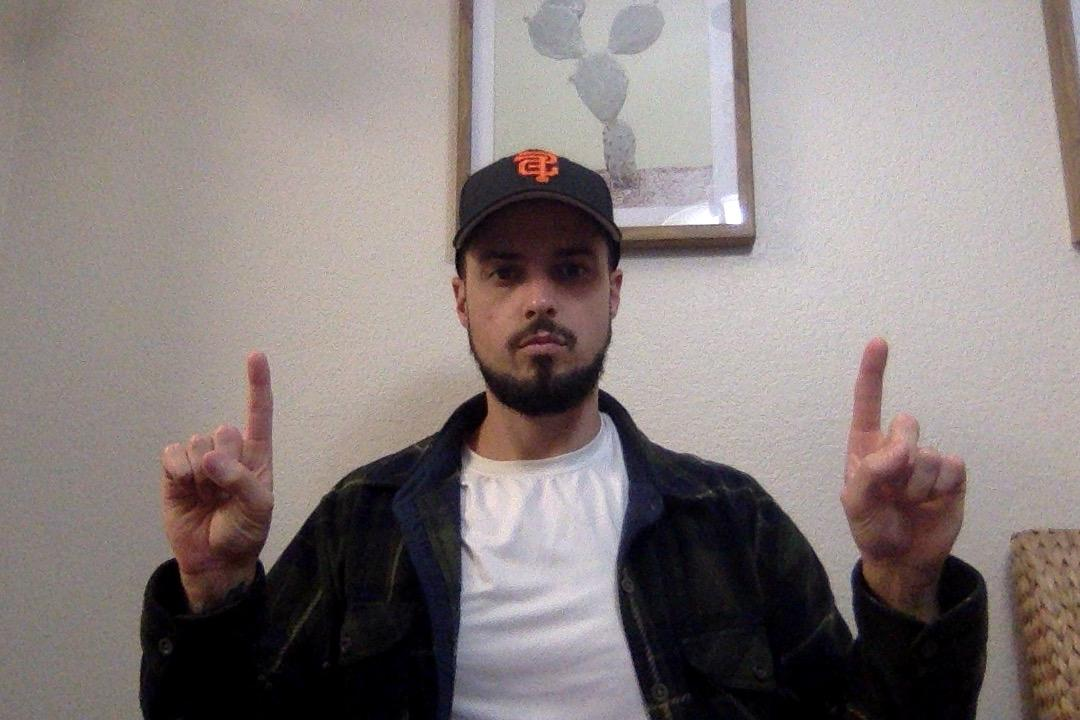Pointing-Up: (808, 325, 1010, 602), (143, 337, 293, 599)
